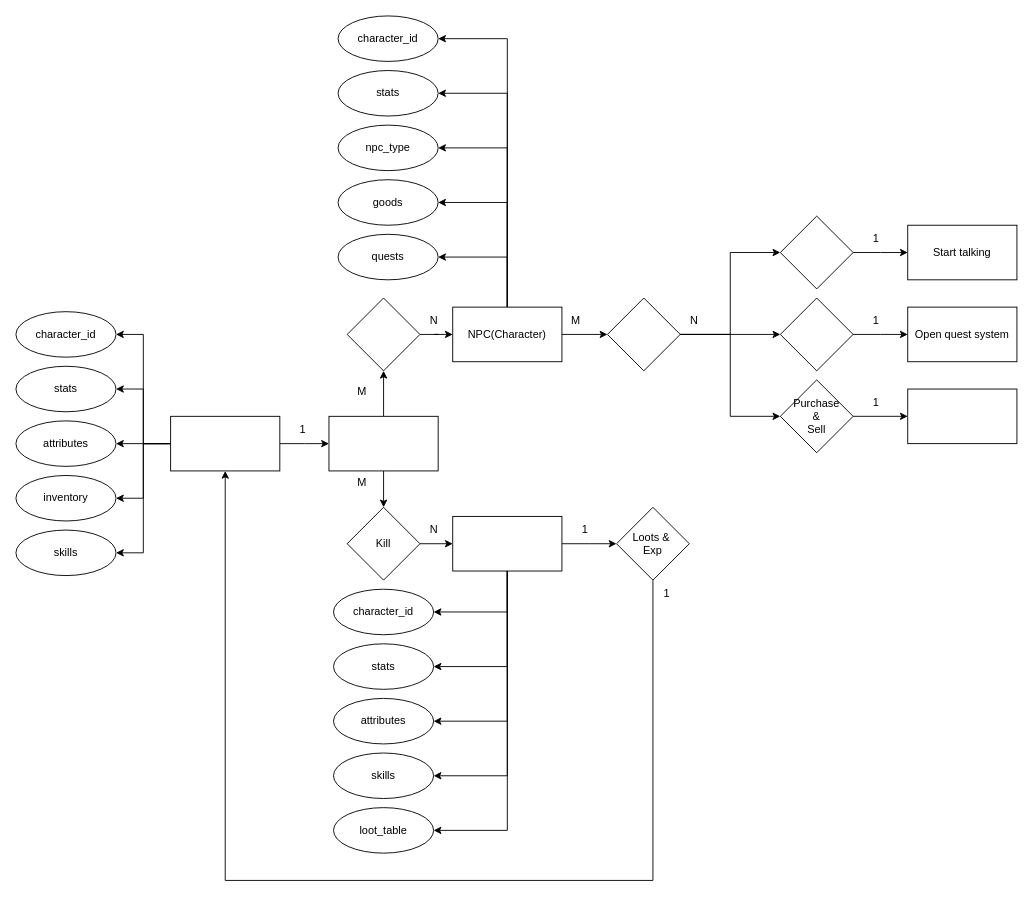
The diagram is 1033 pixels wide and 904 high, and some of its shapes have lost their labels. Here are the shapes that lost their labels. From the top down, the box of each, then its label:
(779, 215, 853, 289): Talk
(346, 297, 420, 371): Interact
(607, 297, 680, 371): Show options
(779, 297, 853, 371): Quest
(907, 388, 1017, 444): Open trade system
(170, 415, 280, 471): Player(Character)
(328, 415, 438, 471): Game
(452, 516, 562, 571): Enemy(Character)
